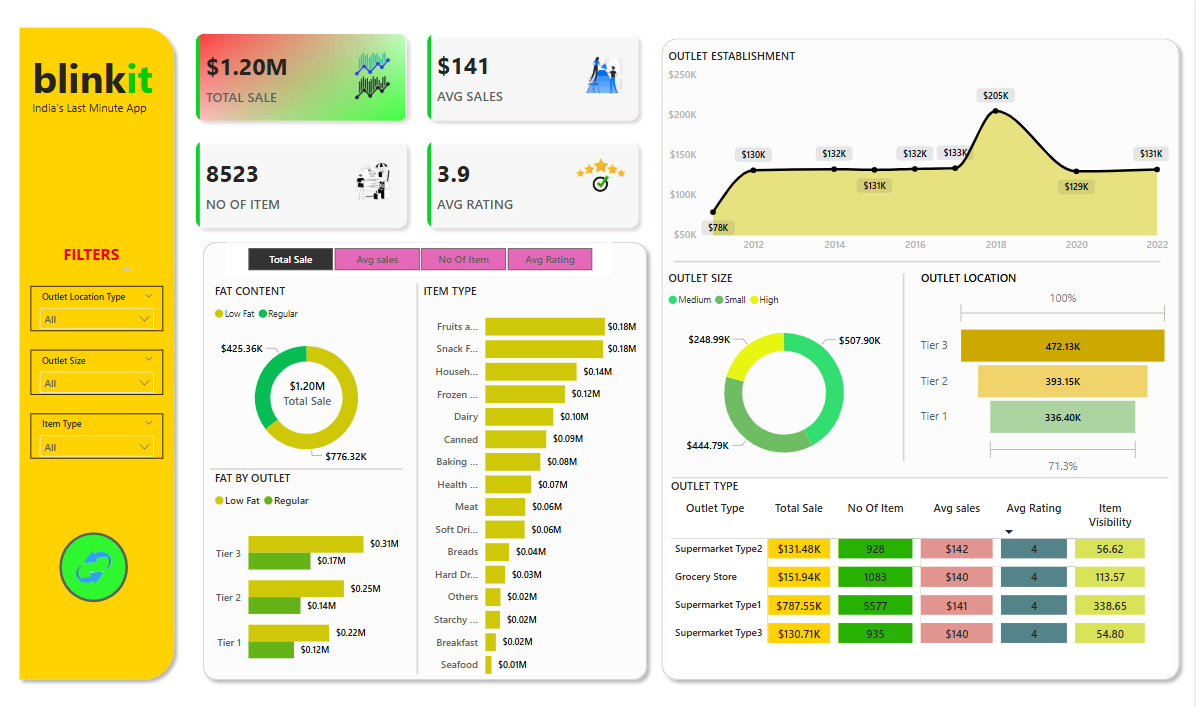

Layout of this report page (visuals, bound fields, positions):
{"tool":"powerbi","page":{"name":"Page 1","canvas":[1450,900],"ordinal":0},"visuals":[{"type":"shape","box":[22.6,40.7,205.1,805.3],"z":0},{"type":"textbox","box":[276.1,616.6,206.4,143.4],"z":1000},{"type":"textbox","box":[42.9,72.4,163.5,75.1],"z":2000},{"type":"textbox","box":[42.9,132.7,172.9,29.5],"z":3000},{"type":"cardVisual","fields":{"Data":["BlinkIT Grocery Data.Total Sale","BlinkIT Grocery Data.Avg sales","BlinkIT Grocery Data.No Of Item","BlinkIT Grocery Data.Avg Rating"]},"box":[227.9,40.2,569.7,269.4],"z":4000},{"type":"shape","box":[244.3,300.1,553.5,545.9],"z":5000},{"type":"donutChart","title":"FAT CONTENT","fields":{"Y":["BlinkIT Grocery Data.Total Sale"],"Category":["BlinkIT Grocery Data.Item Fat Content"]},"box":[262.7,359.3,231.9,230.6],"z":6000},{"type":"slicer","fields":{"Values":["Matrics.Matrics"]},"box":[281.5,309.7,465.1,40.2],"z":7000},{"type":"cardVisual","fields":{"Data":["BlinkIT Grocery Data.Total Sale"]},"box":[313.7,438.3,131.4,104.6],"z":8000},{"type":"clusteredBarChart","title":"FAT BY OUTLET    ","fields":{"Y":["BlinkIT Grocery Data.Total Sale"],"Category":["BlinkIT Grocery Data.Outlet Location Type"],"Series":["BlinkIT Grocery Data.Item Fat Content"]},"box":[262.4,583.6,232.2,256.4],"z":9000},{"type":"shape","box":[262.4,553.5,232.2,58.8],"z":10000},{"type":"shape","box":[482.6,358.9,58.8,470.5],"z":11000},{"type":"barChart","title":" ITEM TYPE","fields":{"Y":["BlinkIT Grocery Data.Total Sale"],"Category":["BlinkIT Grocery Data.Item Type"]},"box":[514.2,358.9,266.9,487.1],"z":12000},{"type":"shape","box":[797.8,54.3,642.4,791.7],"z":13000},{"type":"lineChart","title":"OUTLET ESTABLISHMENT","fields":{"Y":["BlinkIT Grocery Data.Total Sale"],"Category":["BlinkIT Grocery Data.Outlet Establishment Year"]},"box":[809.8,75.4,613.8,254.9],"z":14000},{"type":"shape","box":[821.9,303.1,586.6,58.8],"z":15000},{"type":"donutChart","title":"OUTLET SIZE","fields":{"Category":["BlinkIT Grocery Data.Outlet Size"],"Y":["BlinkIT Grocery Data.Total Sale"]},"box":[809.8,342.3,289.5,251.8],"z":16000},{"type":"shape","box":[1069.2,346.9,58.8,226.2],"z":17000},{"type":"funnel","title":"OUTLET LOCATION","fields":{"Y":["Sum(BlinkIT Grocery Data.Sales)"],"Category":["BlinkIT Grocery Data.Outlet Location Type"]},"box":[1114.4,342.3,309.2,251.8],"z":18000},{"type":"shape","box":[818.9,564,598.7,58.8],"z":19000},{"type":"pivotTable","title":"OUTLET TYPE","fields":{"Values":["BlinkIT Grocery Data.Total Sale","BlinkIT Grocery Data.No Of Item","BlinkIT Grocery Data.Avg sales","BlinkIT Grocery Data.Avg Rating","Sum(BlinkIT Grocery Data.Item Visibility)"],"Rows":["BlinkIT Grocery Data.Outlet Type"]},"box":[812.8,594.2,610.8,235.3],"z":20000},{"type":"slicer","fields":{"Values":["BlinkIT Grocery Data.Outlet Location Type"]},"box":[45.2,361.9,159.9,54.3],"z":21000},{"type":"slicer","fields":{"Values":["BlinkIT Grocery Data.Outlet Size"]},"box":[45.2,438.8,159.9,54.3],"z":22000},{"type":"slicer","fields":{"Values":["BlinkIT Grocery Data.Item Type"]},"box":[45.2,515.8,159.9,54.3],"z":23000},{"type":"textbox","title":"FILTERS","box":[79.9,310.7,90.5,37.7],"z":25000},{"type":"actionButton","box":[79.9,659,82.9,84.5],"z":25001}]}

Visuals, with their boxes on the page's 1450x900 design canvas (x1, y1, x2, y2). These are canvas units, not pixel positions in the 1196x706 screenshot, which may show the page scaled, cropped or inside an application window:
shape: 23:41:228:846
textbox: 276:617:482:760
textbox: 43:72:206:148
textbox: 43:133:216:162
cardVisual - BlinkIT Grocery Data.Total Sale x BlinkIT Grocery Data.Avg sales: 228:40:798:310
shape: 244:300:798:846
"FAT CONTENT" donutChart: 263:359:495:590
slicer - Matrics.Matrics: 282:310:747:350
cardVisual - BlinkIT Grocery Data.Total Sale: 314:438:445:543
"FAT BY OUTLET    " clusteredBarChart: 262:584:495:840
shape: 262:554:495:612
shape: 483:359:541:829
" ITEM TYPE" barChart: 514:359:781:846
shape: 798:54:1440:846
"OUTLET ESTABLISHMENT" lineChart: 810:75:1424:330
shape: 822:303:1408:362
"OUTLET SIZE" donutChart: 810:342:1099:594
shape: 1069:347:1128:573
"OUTLET LOCATION" funnel: 1114:342:1424:594
shape: 819:564:1418:623
"OUTLET TYPE" pivotTable: 813:594:1424:830
slicer - BlinkIT Grocery Data.Outlet Location Type: 45:362:205:416
slicer - BlinkIT Grocery Data.Outlet Size: 45:439:205:493
slicer - BlinkIT Grocery Data.Item Type: 45:516:205:570
"FILTERS" textbox: 80:311:170:348
actionButton: 80:659:163:744
